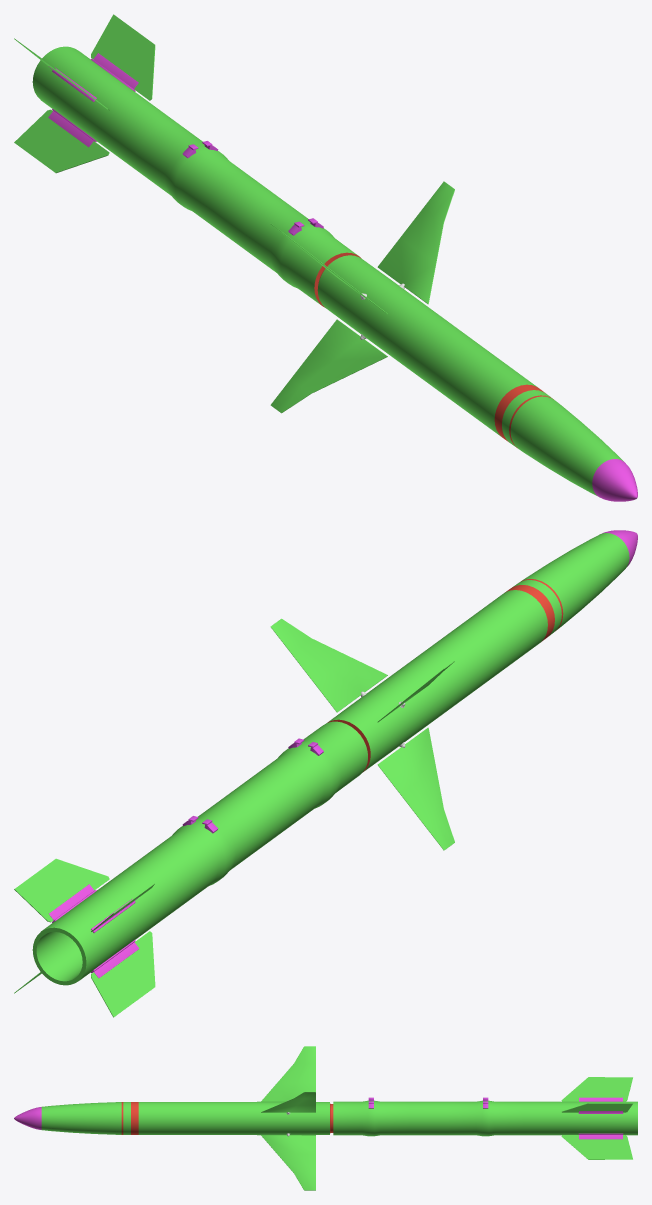
File: AGM-88.fbx
3 renders of one model, top to bottom at view 1: azimuth 30°, elevation 25°; view 2: azimuth 150°, elevation 25°; view 3: azimuth 270°, elevation 25°, orthographic. The views are drawn at different scales.
Parts seen in each view (by area): view 1: Body, Front Wings.001, Rear Wings, Rear Holder; view 2: Body, Front Wings.001, Rear Wings, Rear Holder; view 3: Body, Front Wings.001, Rear Wings, Rear Holder.
Part boxes in pixels (<box>): Body: <box>32,46,637,501</box>; Front Wings.001: <box>270,181,454,413</box>; Rear Wings: <box>14,14,155,173</box>; Rear Holder: <box>48,53,138,147</box>; Body: <box>32,530,637,985</box>; Front Wings.001: <box>270,618,454,850</box>; Rear Wings: <box>14,858,155,1017</box>; Rear Holder: <box>49,884,139,978</box>; Body: <box>14,1100,637,1136</box>; Front Wings.001: <box>261,1046,315,1190</box>; Rear Wings: <box>561,1077,633,1159</box>; Rear Holder: <box>578,1097,623,1139</box>.
Size of the model in its own units: 496 by 86.29 by 86.29.
